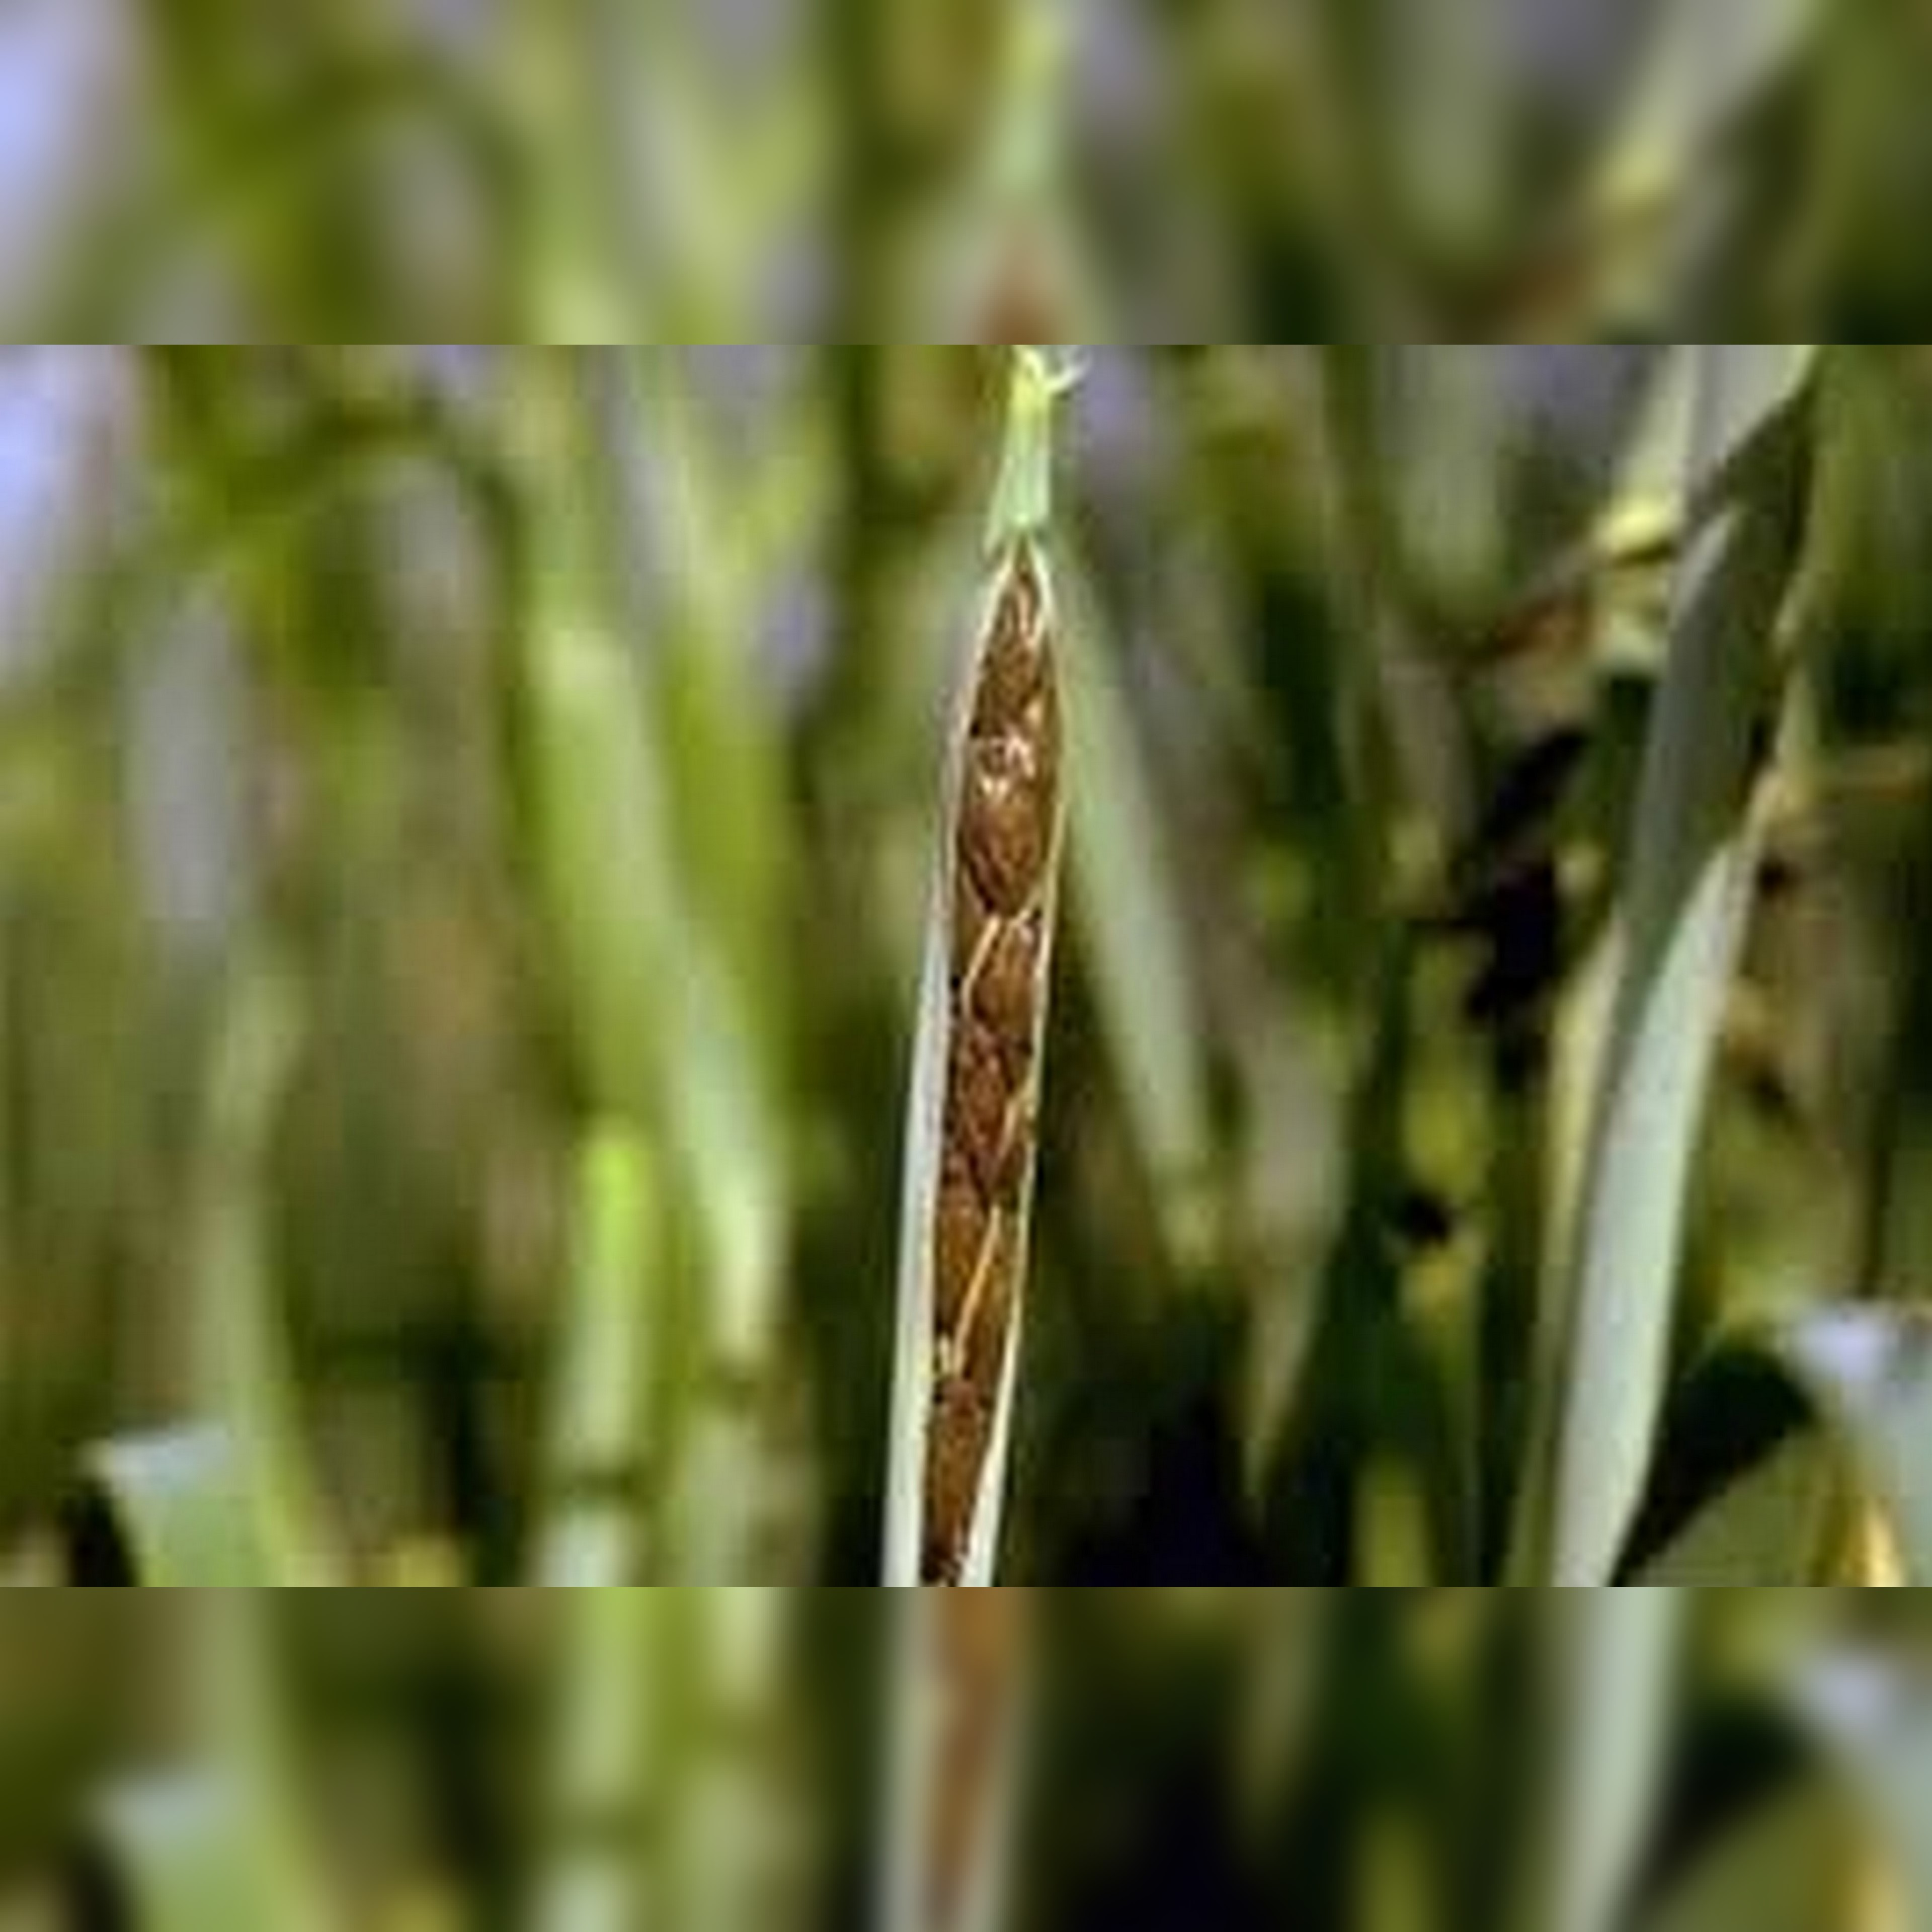Wheat Loose Smut: (881, 570, 1104, 1513)
